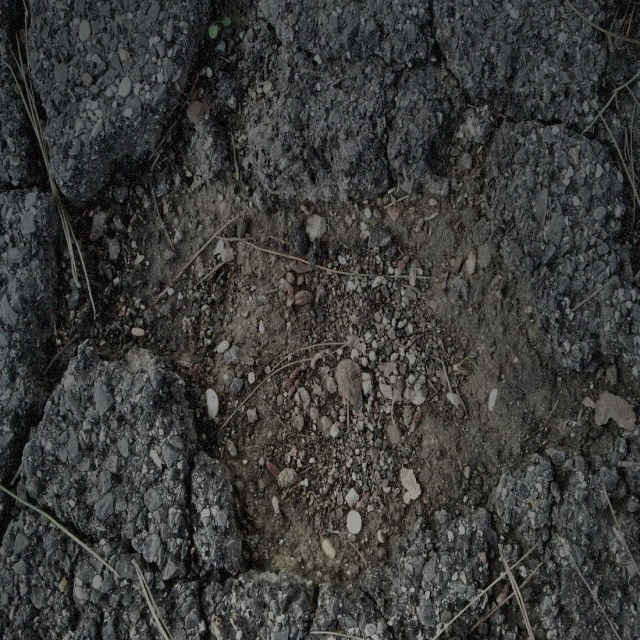pothole: (35, 97, 586, 593)
